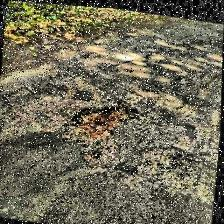pothole: (61, 94, 142, 154)
